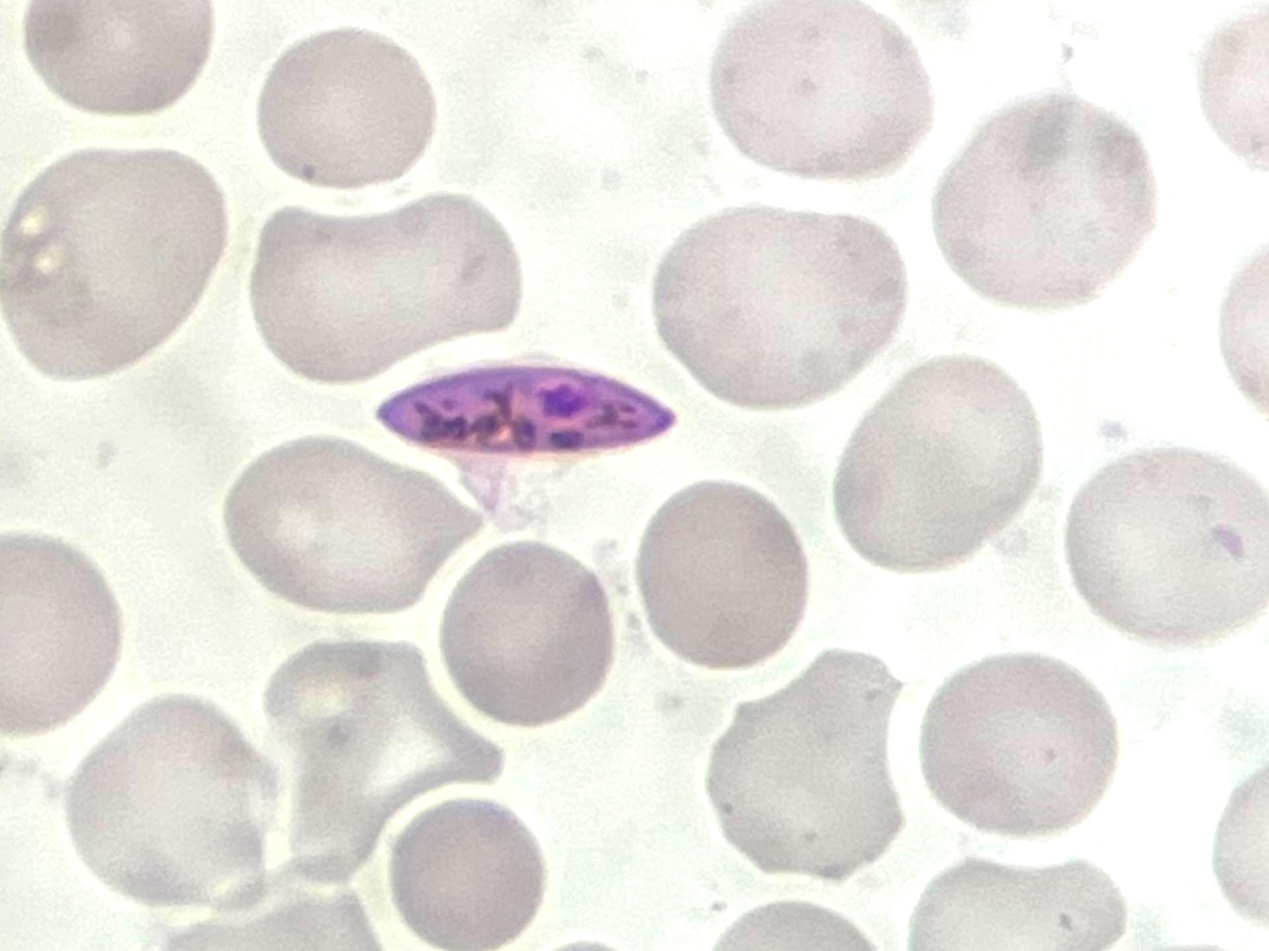Infected: (372, 360, 681, 464)
Uninfected: (264, 633, 508, 881), (0, 142, 232, 383), (247, 192, 527, 386), (648, 210, 903, 414), (220, 428, 486, 618), (934, 95, 1160, 312), (828, 349, 1046, 571), (705, 642, 906, 881), (66, 695, 275, 902), (1062, 444, 1269, 649), (709, 0, 937, 180), (916, 653, 1122, 841), (634, 485, 812, 671), (443, 543, 612, 728), (256, 29, 436, 190), (388, 794, 546, 951)
